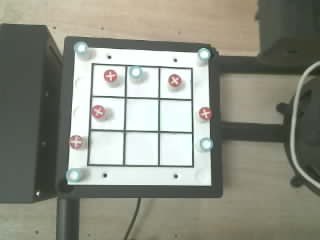blue circle: (200, 137, 213, 151), (66, 169, 81, 181), (74, 41, 87, 54), (198, 48, 210, 60), (129, 66, 142, 77)
board: (66, 42, 212, 185)
cells: (89, 131, 123, 164), (125, 132, 157, 165), (91, 97, 124, 129), (160, 133, 192, 165), (126, 99, 158, 130), (93, 65, 125, 96), (160, 100, 191, 131), (160, 68, 191, 98), (127, 67, 158, 97)
grid: (87, 63, 193, 167)
red cross: (91, 105, 105, 118), (69, 135, 83, 148), (168, 74, 181, 87), (104, 69, 117, 82), (199, 107, 212, 119)
